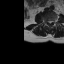CCS_severe_stenosis: (49, 19, 50, 25)
LFS_stenosis: (52, 19, 54, 23)
LLS_normal: (50, 18, 52, 24)
RFS_stenosis: (46, 19, 48, 24)
RLS_stenosis: (48, 19, 49, 24)
